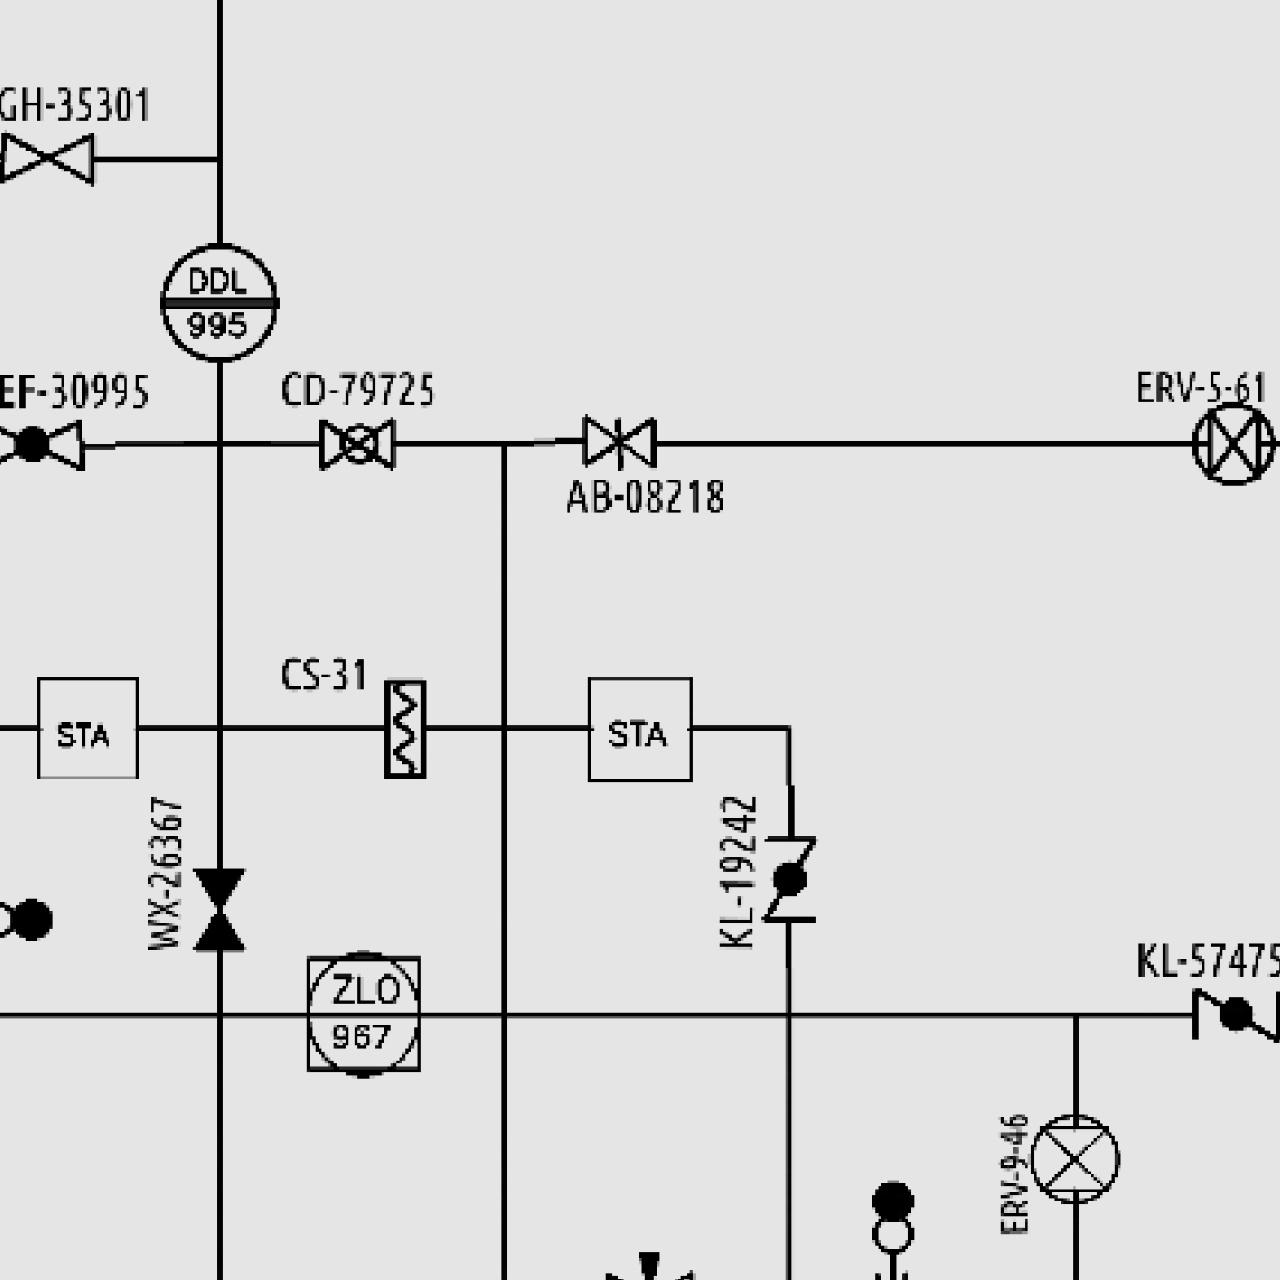Control-Panel: (155, 238, 282, 365)
